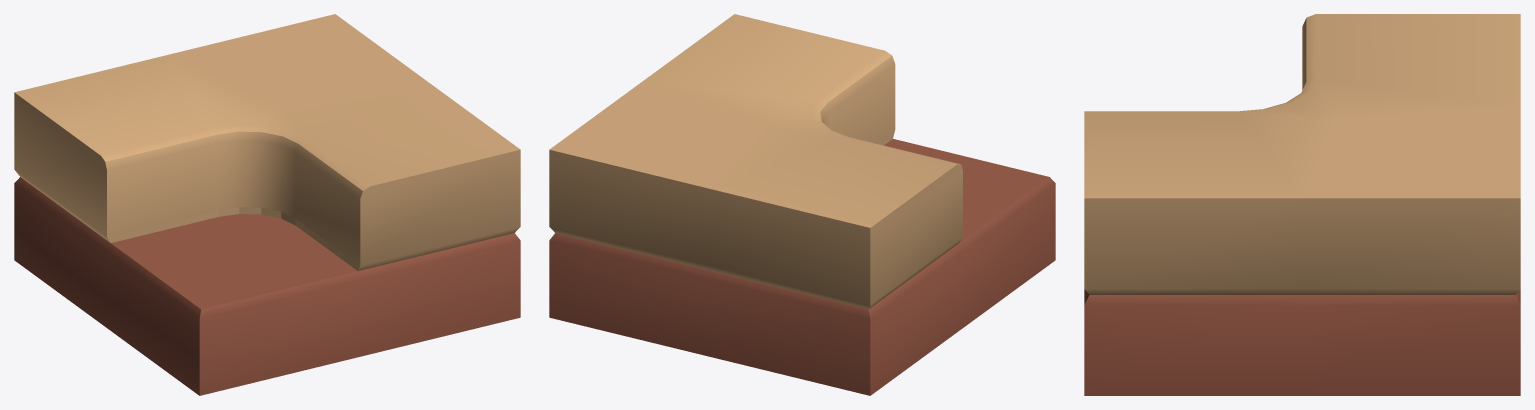
File: square_sand_waterInnerCorner_empty.glb
3 views of the same model, side by side, from view 1: azimuth 30°, elevation 25°; view 2: azimuth 150°, elevation 25°; view 3: azimuth 270°, elevation 25° (orthographic). The views are drawn at different scales.
Parts seen in each view (by area): view 1: square_sand_waterInnerCorner_empty; view 2: square_sand_waterInnerCorner_empty; view 3: square_sand_waterInnerCorner_empty.
Part boxes in pixels (x1=…): square_sand_waterInnerCorner_empty: x1=14, y1=14, x2=520, y2=395; square_sand_waterInnerCorner_empty: x1=549, y1=14, x2=1055, y2=395; square_sand_waterInnerCorner_empty: x1=1084, y1=14, x2=1520, y2=395.
Bounding box in the file's own units: 2 × 1 × 2.
